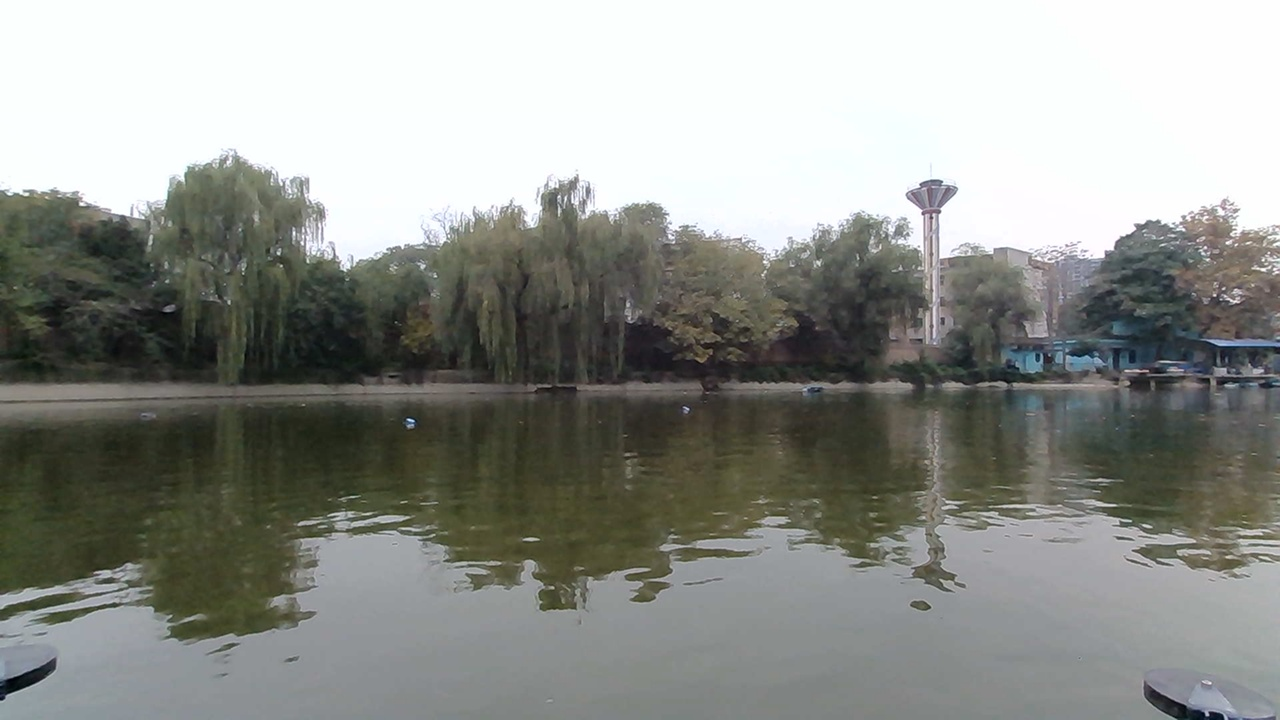bottle: (129, 398, 168, 425), (396, 414, 427, 432)
